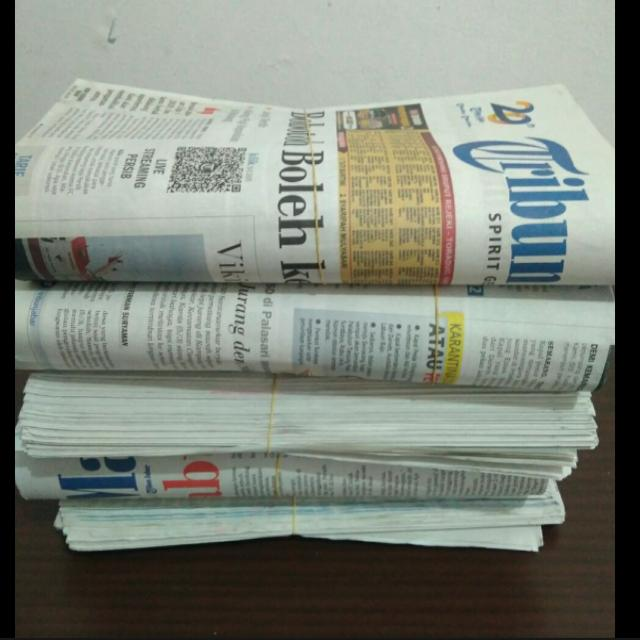Koran: (13, 82, 607, 552)
